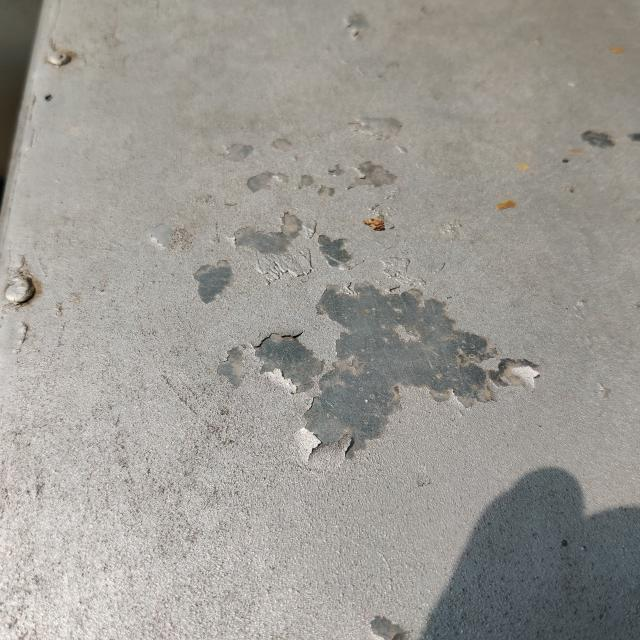Paint-off: (194, 171, 538, 468)
